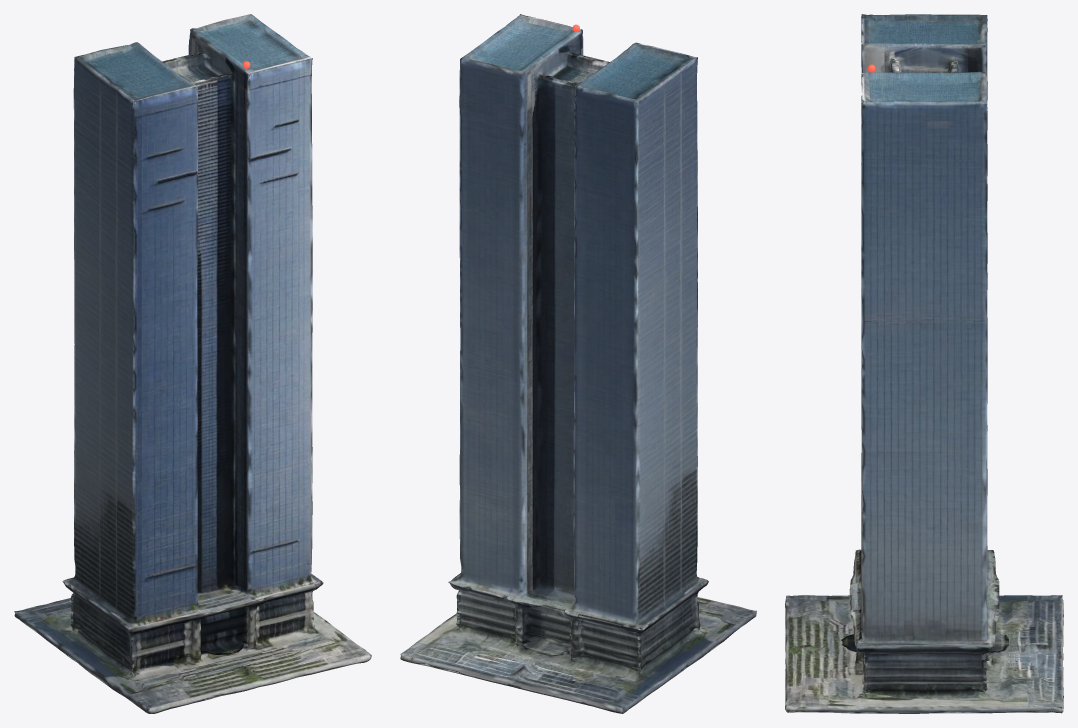
File: sky-blue.glb
3 views of the same model, side by side, from view 1: azimuth 30°, elevation 25°; view 2: azimuth 150°, elevation 25°; view 3: azimuth 270°, elevation 25° (orthographic). The views are drawn at different scales.
Parts seen in each view (by area): view 1: Body; view 2: Body; view 3: Body.
Part boxes in pixels (box(x1,y1,x2,y2)): Body: box(14, 14, 371, 713); Body: box(400, 14, 756, 713); Body: box(785, 14, 1063, 713).
Size of the model in its own units: 69.07 by 172 by 71.64.
2 materials, 1 textured.
